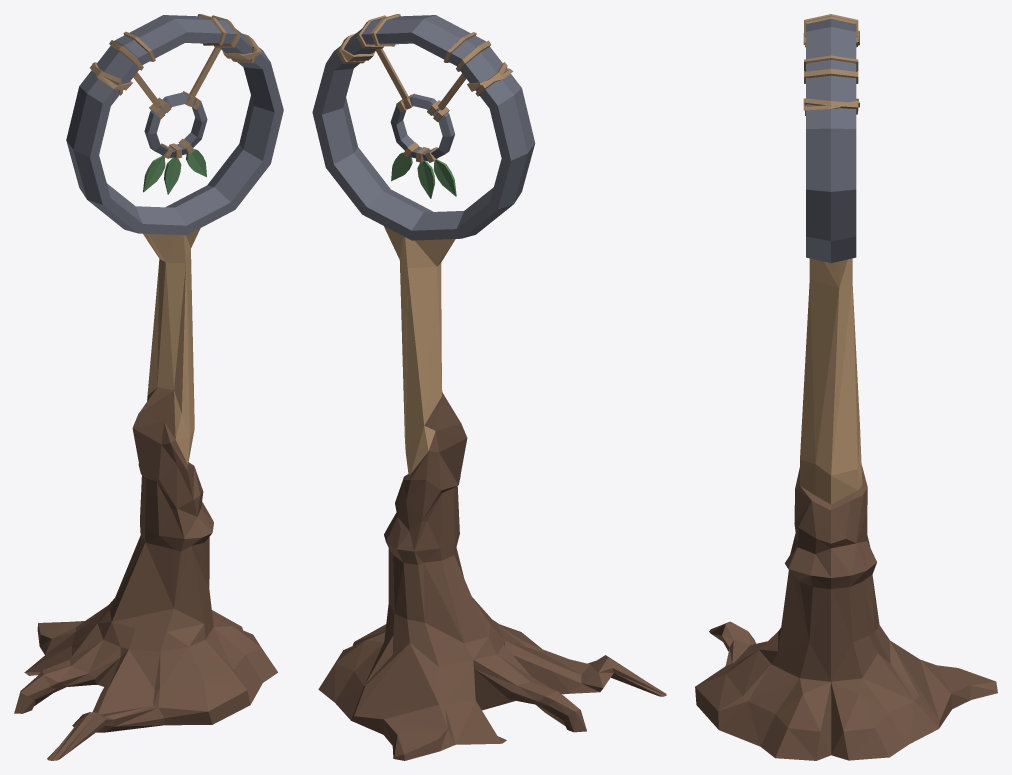
File: _stolb_2.fbx
3 renders of one model, left to right at view 1: azimuth 30°, elevation 25°; view 2: azimuth 150°, elevation 25°; view 3: azimuth 270°, elevation 25°, orthographic. The views are drawn at different scales.
Parts seen in each view (by area): view 1: stolb_2; view 2: stolb_2; view 3: stolb_2.
Boxes of the visible parts, bbox=[...] form: stolb_2: bbox=[14, 14, 283, 760]; stolb_2: bbox=[312, 14, 666, 760]; stolb_2: bbox=[695, 14, 997, 760].
Size of the model in its own units: 95.41 by 211 by 83.27.
